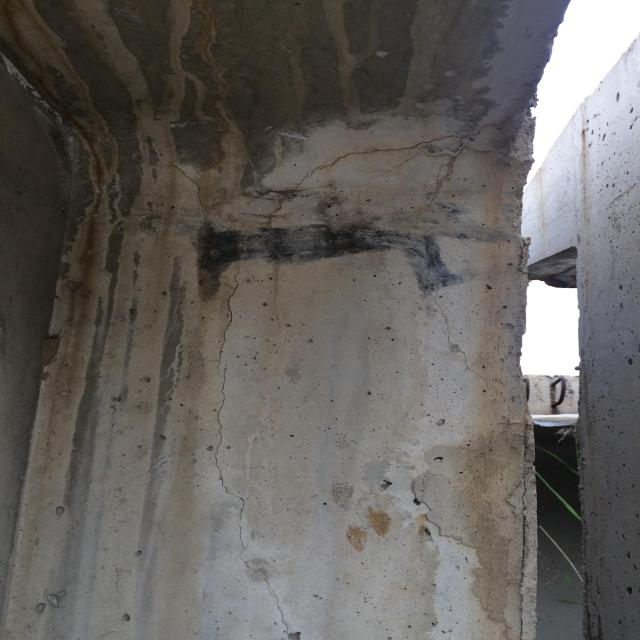diagonal crack: (263, 120, 505, 225), (160, 162, 208, 207)
vertical crack: (214, 262, 296, 630)
